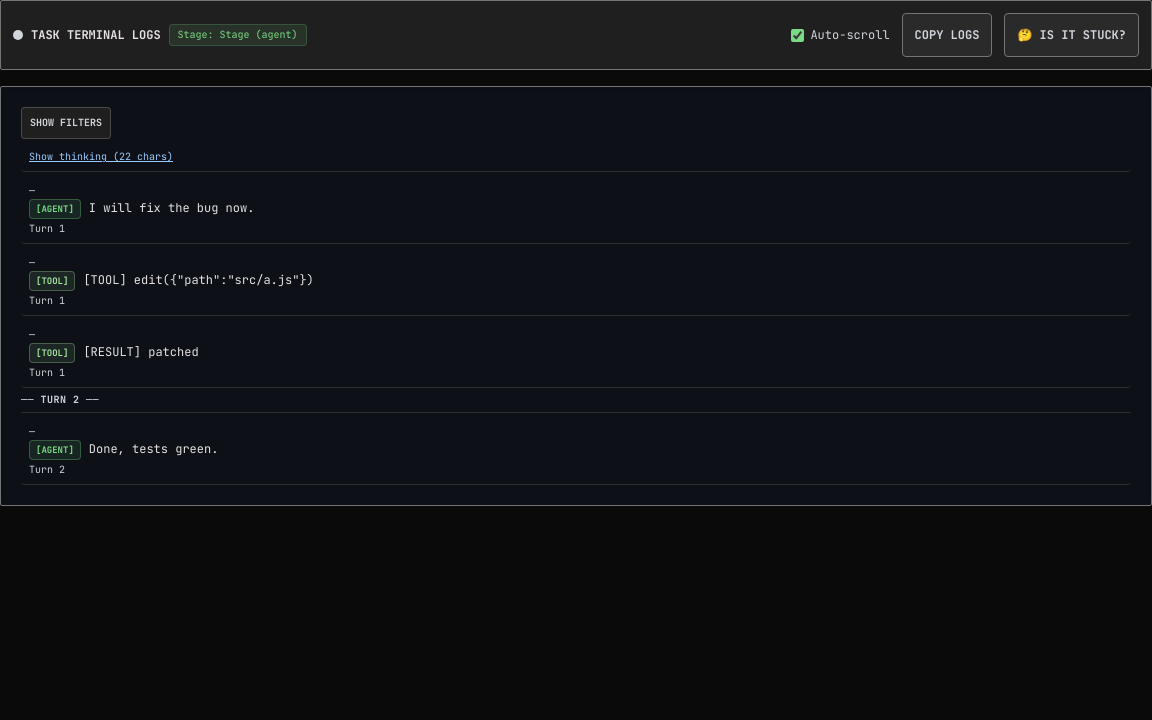
Test: stuck check runs end to end through the panel
(page scrolled)
Step 1. Click the button "🤔 Is it stuck?" → (1072, 35), box [1004,13,1139,57]
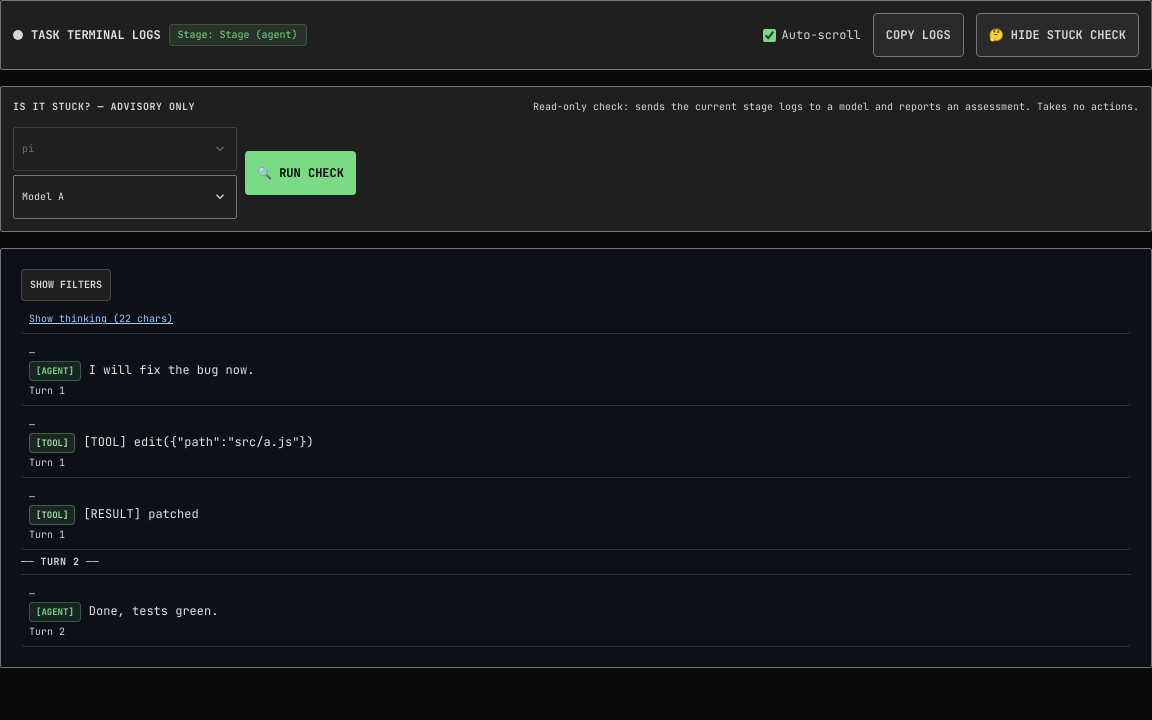
Result: the element named "stuck check" is shown at [0,86,1151,232]
Result: the button "🔍 Run Check" is enabled
Step 2. Click the button "🔍 Run Check" → (300, 173), box [245,151,356,195]
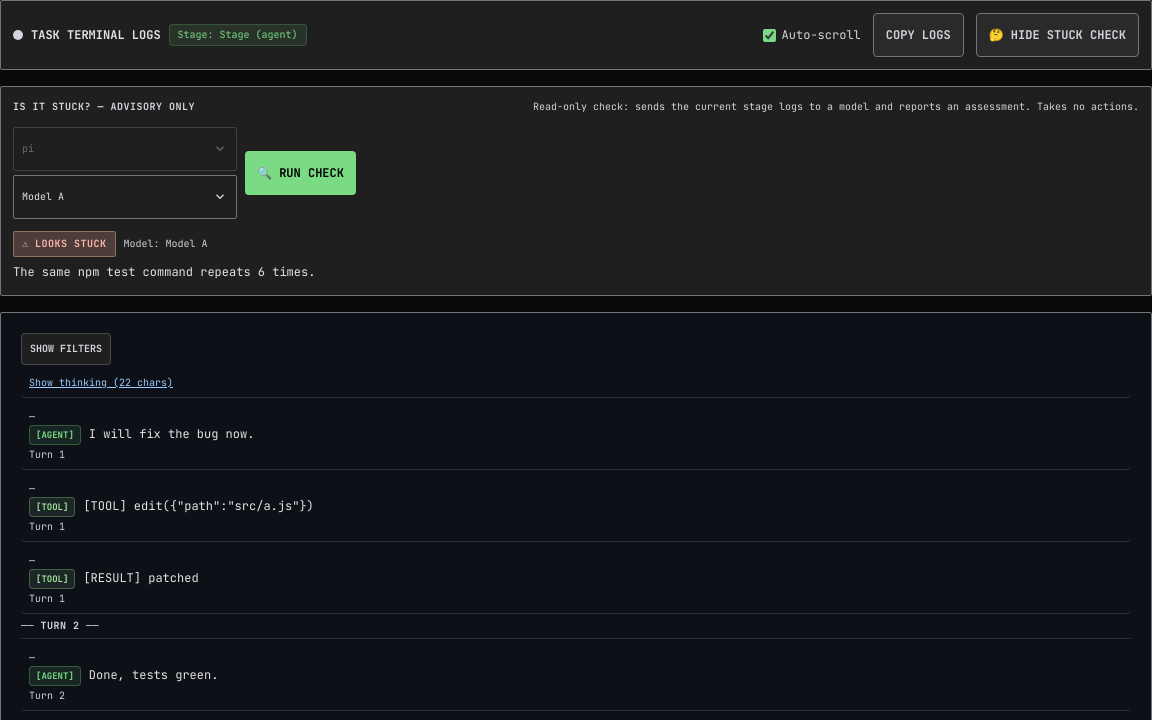
Result: the element with test id "stuck-check-result" shows "Looks stuck" at [35,237,106,250]
Result: the element with test id "stuck-check-result" shows "The same npm test command repeats 6 times." at [13,264,315,280]
